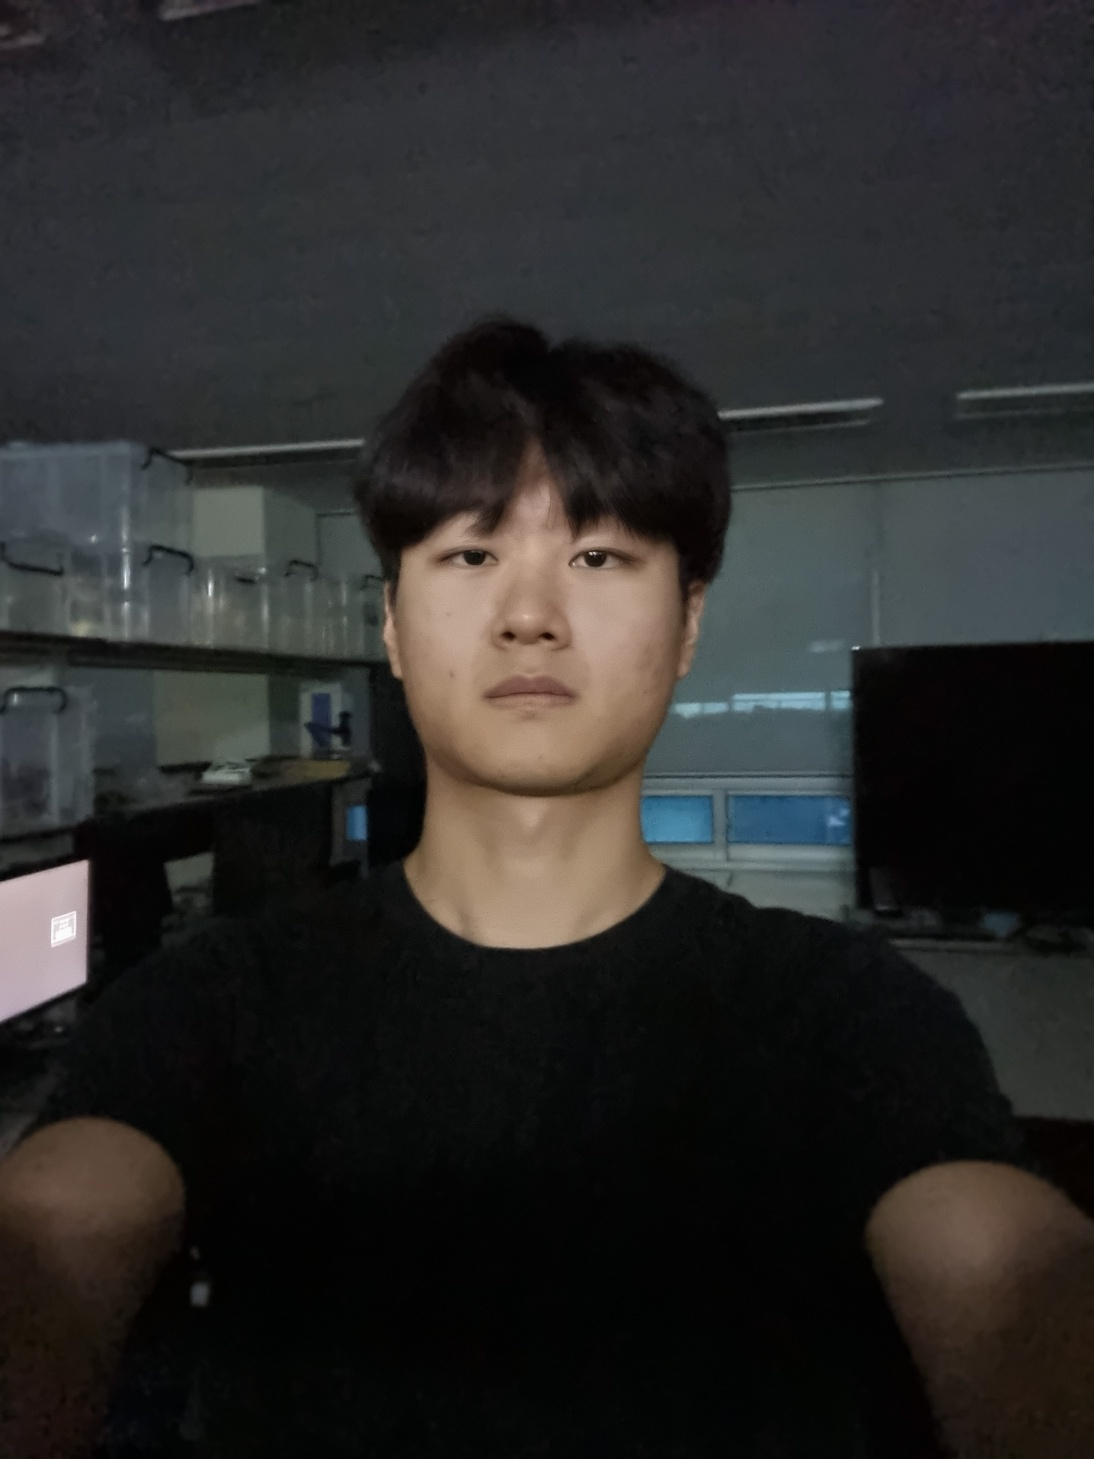Non-Helmet: (291, 254, 781, 827)
